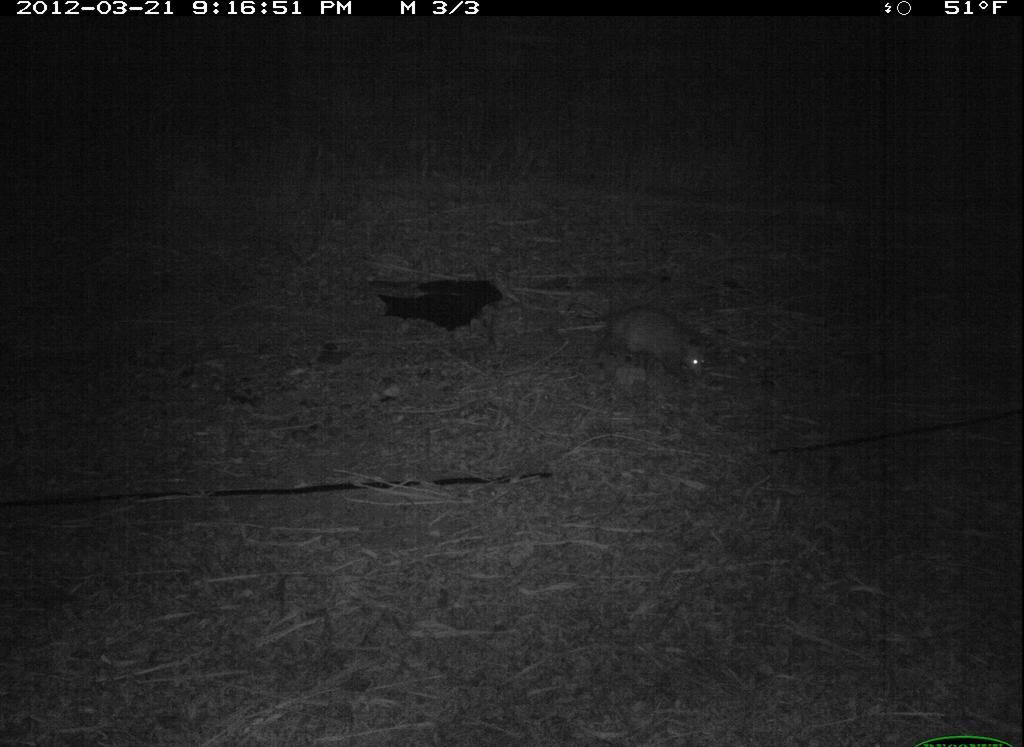opossum: (543, 290, 754, 413)
